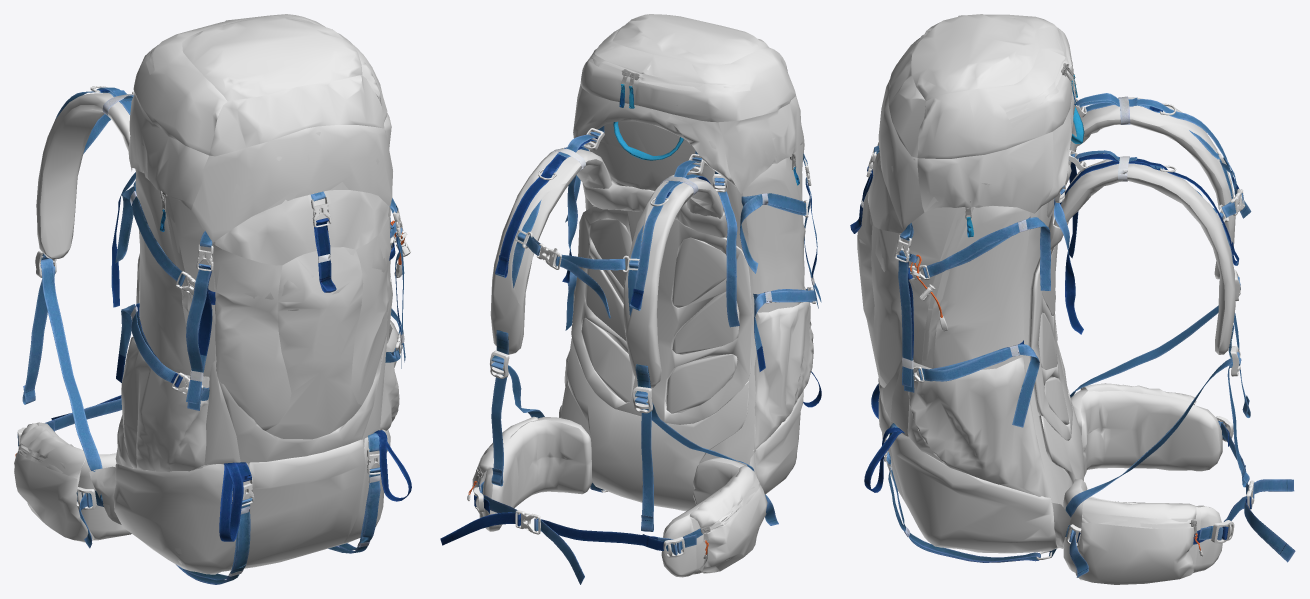
Rendered from backpack.glb.
The picture shows the model from 3 angles, left to right: view 1: azimuth 30°, elevation 25°; view 2: azimuth 150°, elevation 25°; view 3: azimuth 270°, elevation 25°; orthographic projection. The views are drawn at different scales.
Visible parts, largest first — view 1: Backpack — 56 cm tall, daizi, kouzi; view 2: Backpack — 56 cm tall, daizi, kouzi; view 3: Backpack — 56 cm tall, daizi, kouzi.
Boxes of the visible parts, box(x1,y1,x2,y2) form: Backpack — 56 cm tall: box(14, 14, 399, 574); daizi: box(17, 87, 411, 584); kouzi: box(15, 86, 410, 509); Backpack — 56 cm tall: box(472, 14, 813, 577); daizi: box(440, 84, 821, 584); kouzi: box(467, 69, 815, 558); Backpack — 56 cm tall: box(857, 14, 1235, 584); daizi: box(850, 75, 1295, 577); kouzi: box(866, 63, 1254, 559).
Bounding box in the file's own units: 0.3317 × 0.56 × 0.4542.
Materials: 4 (2 with a texture image).
